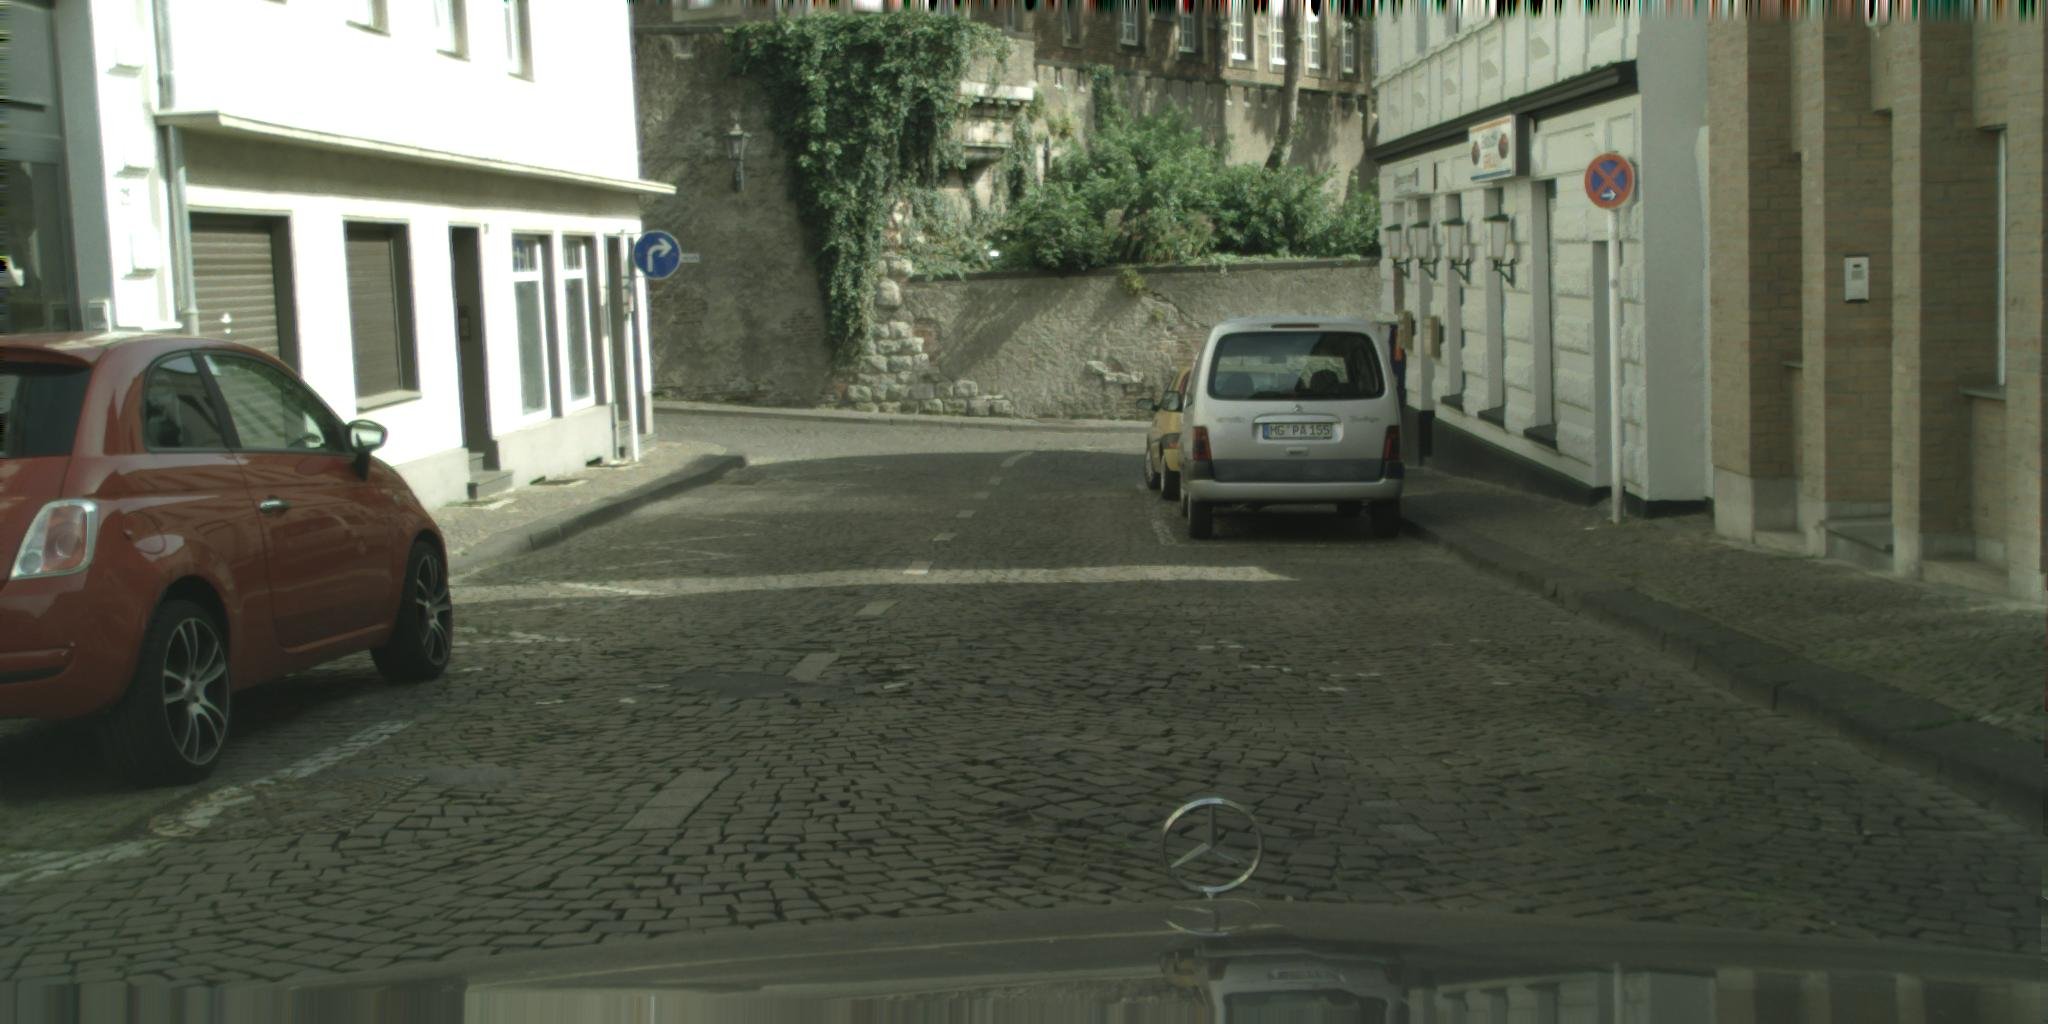car: (1, 332, 453, 792), (1160, 317, 1405, 543), (1138, 364, 1211, 504)
